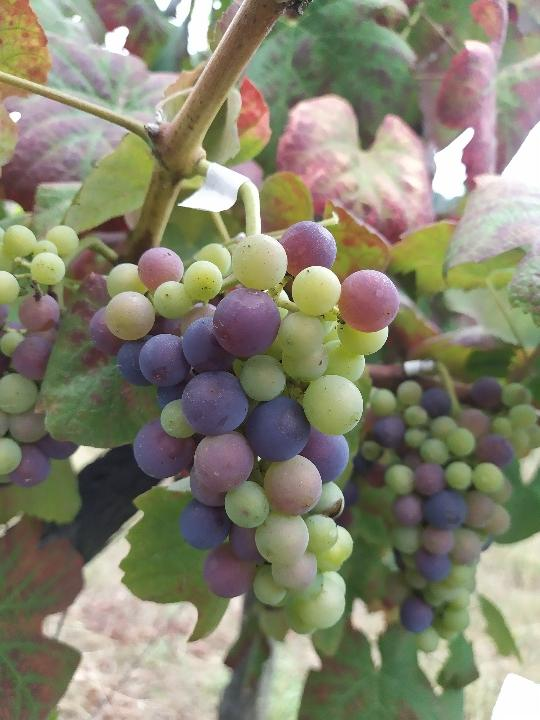grape: (85, 217, 404, 638)
